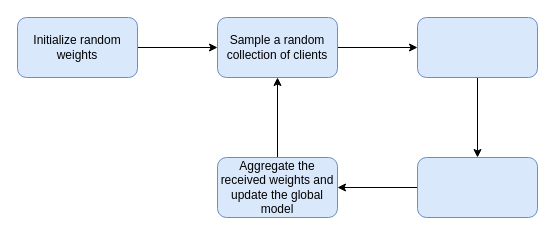
The diagram is 555 pixels wide and 235 high, and some of its shapes have lost their labels. The centre of each missing label's shape, as x and y in pixels:
Send the current global model to the clients: pixel 477 47
Wait till a certain threshold of them respond: pixel 477 187
